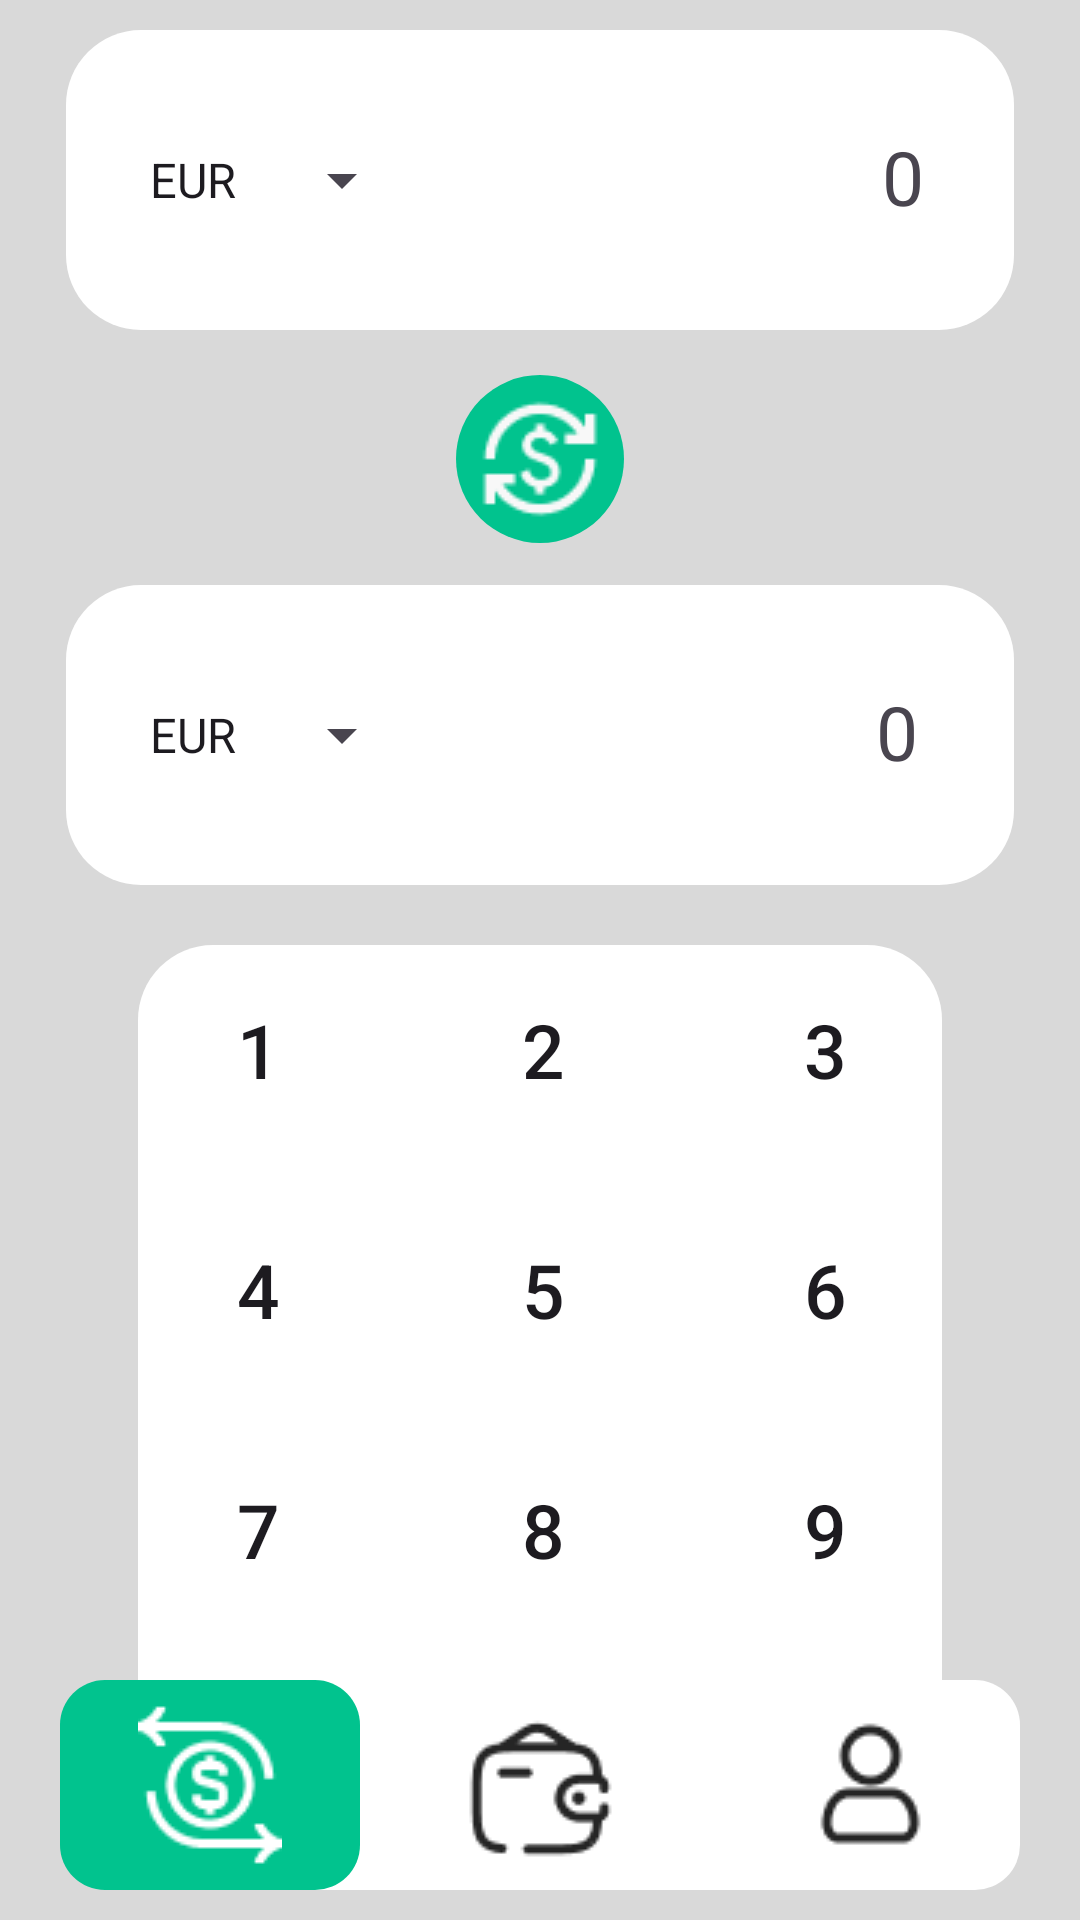

Named icons in this screenshot (1080x1920) and their centers, (x=x, y=y):
currency: (x=540, y=459)
